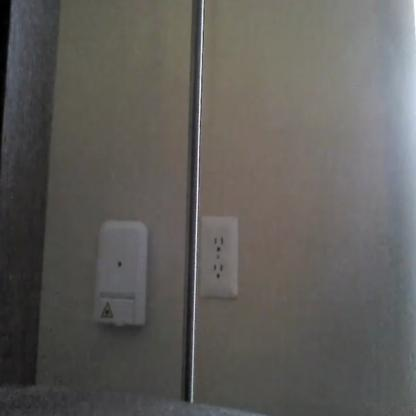OUTLET: (199, 216, 237, 298)
